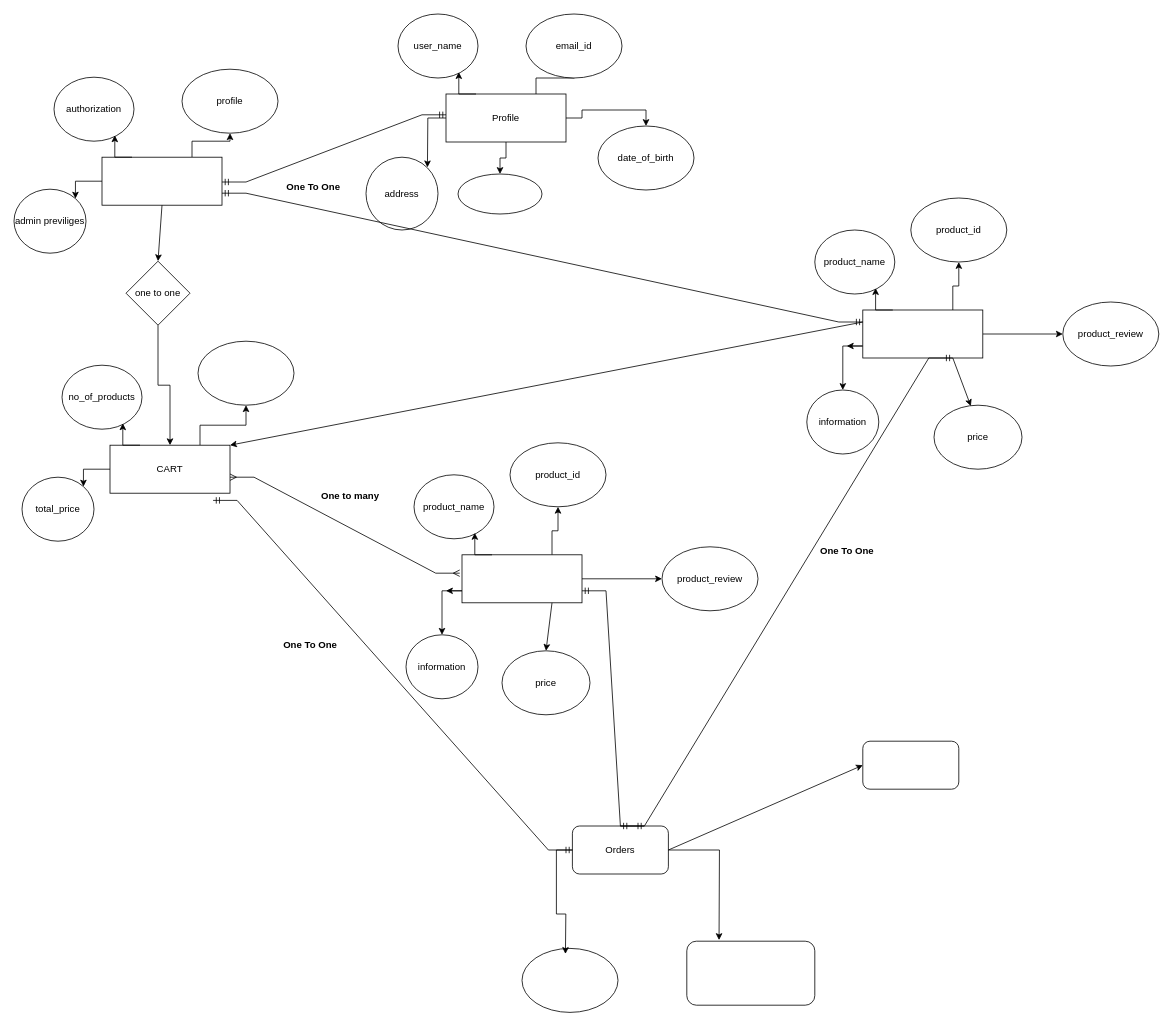
Image size: 1173x1026. Some labels were removed from this diagram. Each missing label, with the centre of its shape:
"cart_id" goes at point 245,372.
"contact_no" goes at point 499,193.
"Fulfilment" goes at point 569,980.
"History" goes at point 750,972.
"Payments" goes at point 910,764.
"Products" goes at point 922,333.
"Products in cart" goes at point 521,578.
"USERS" goes at point 161,180.
